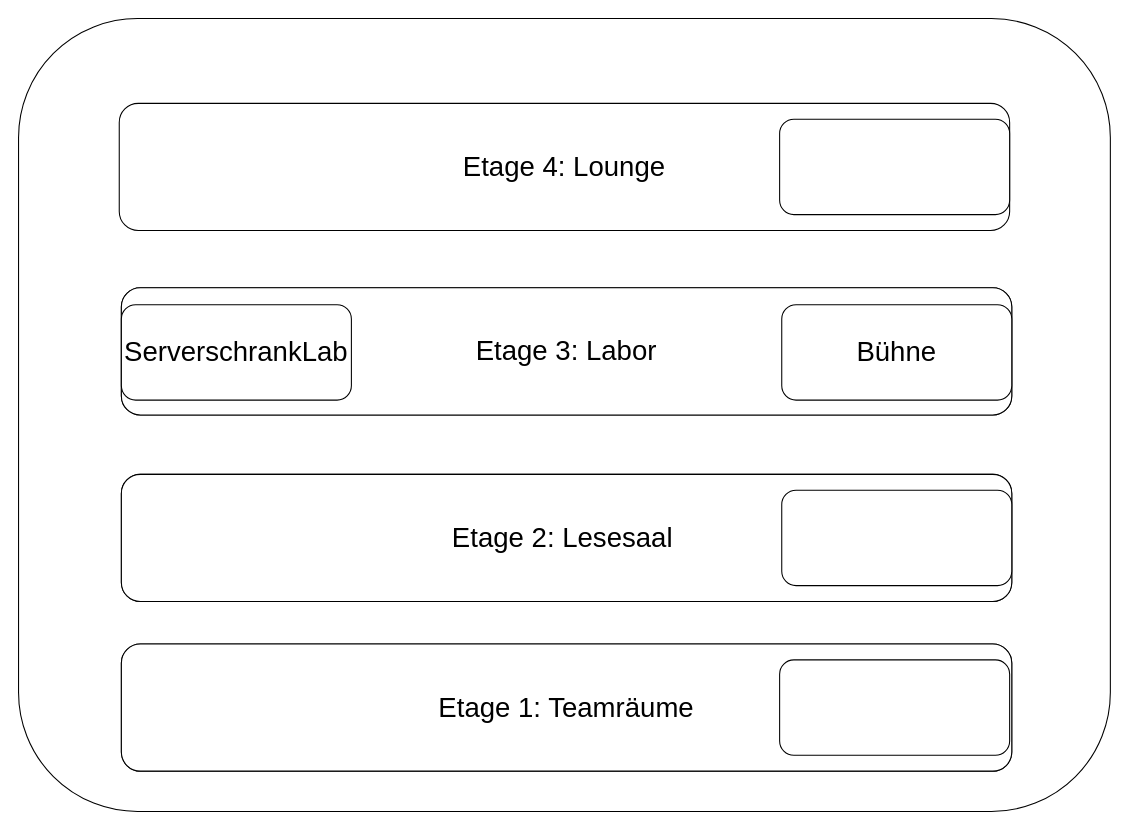
Some shapes in this 1129 by 830 pixel diagram are drawn without their labels. The centre of each missing label's shape, as x and y in pixels:
"Serverraum 1" belongs at (894,707).
"Serverraum 2" belongs at (896,537).
"Serverraum Lounge" belongs at (894,166).
